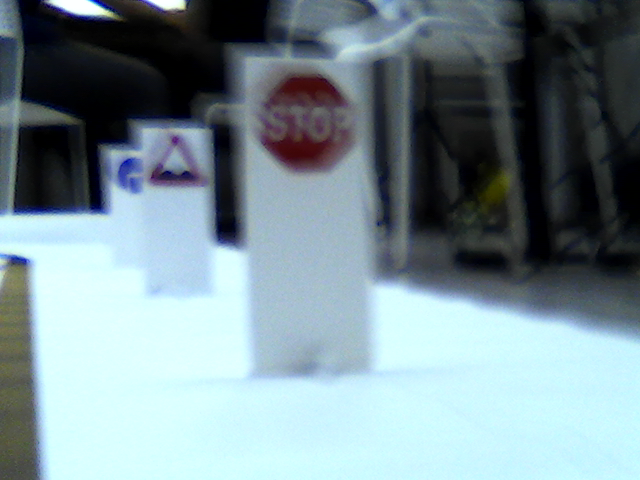Nerov: (149, 135, 206, 186)
Stop: (259, 68, 355, 174)
